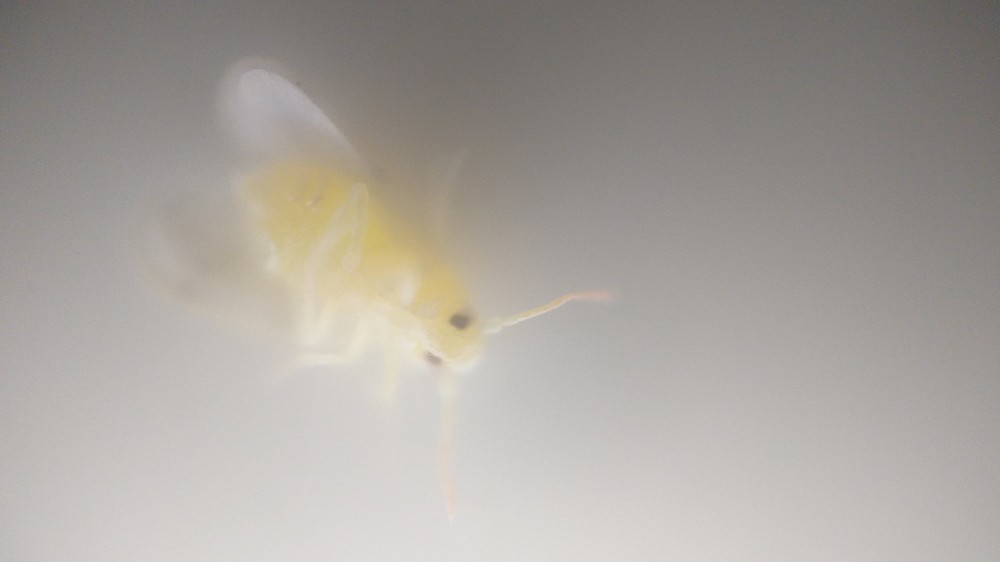Mosca Blanca: (118, 62, 644, 542)
